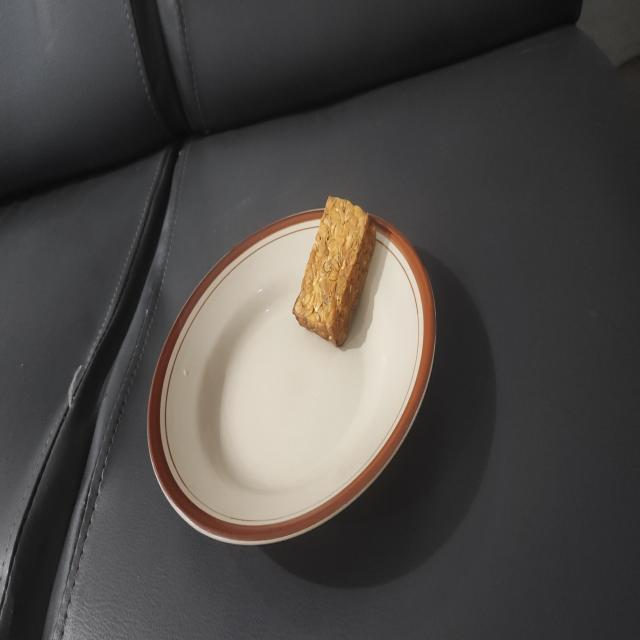tempe_goreng: (293, 196, 375, 346)
